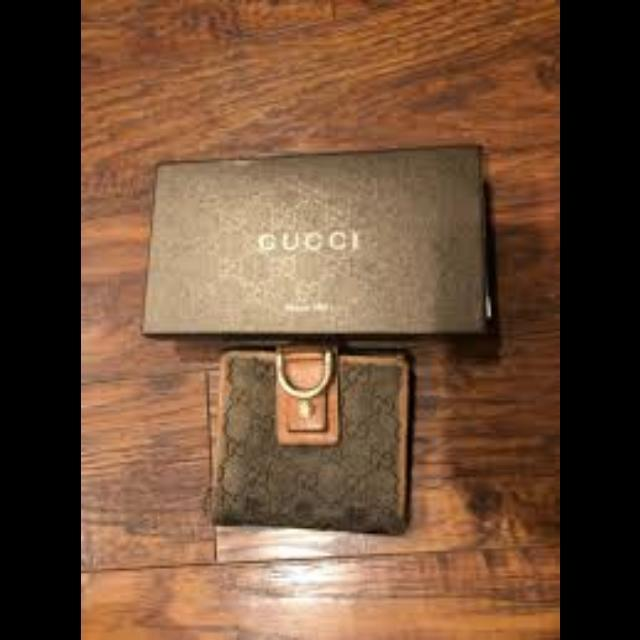wallet: (201, 331, 459, 531)
